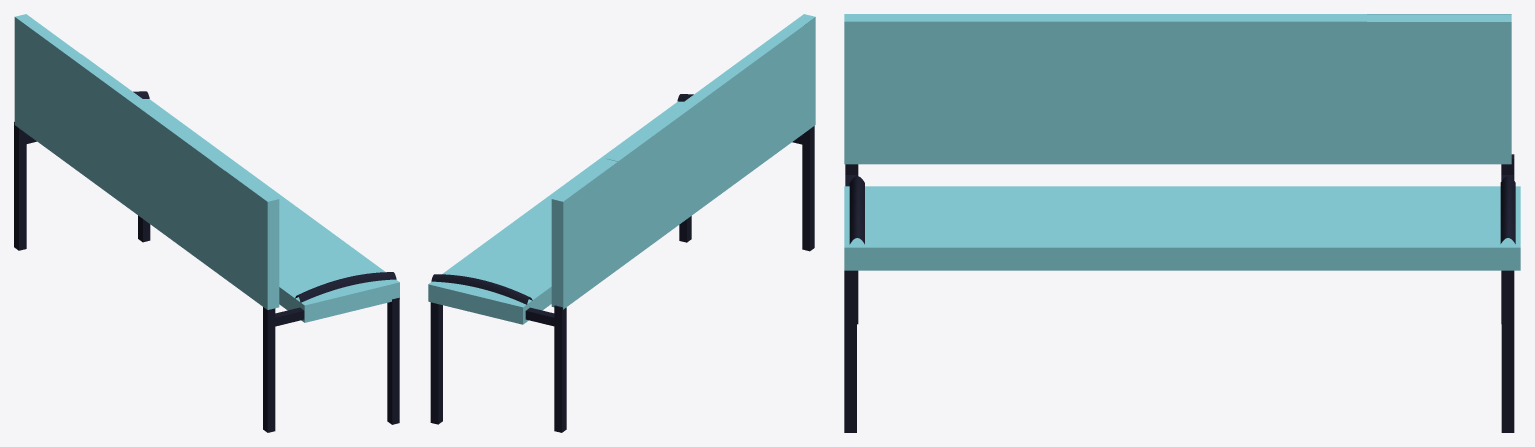
File: banco_grande.glb
3 renders of one model, left to right at view 1: azimuth 30°, elevation 25°; view 2: azimuth 150°, elevation 25°; view 3: azimuth 270°, elevation 25°, orthographic. The views are drawn at different scales.
Parts seen in each view (by area): view 1: Cube, SurfPatch.001; view 2: Cube, SurfPatch.001; view 3: Cube, SurfPatch.001.
Part boxes in pixels (x1=…): Cube: x1=14, y1=14, x2=399, y2=432; SurfPatch.001: x1=133, y1=91, x2=396, y2=302; Cube: x1=428, y1=14, x2=815, y2=432; SurfPatch.001: x1=431, y1=94, x2=693, y2=304; Cube: x1=844, y1=14, x2=1520, y2=432; SurfPatch.001: x1=849, y1=176, x2=1515, y2=244.
Bounding box in the file's own units: 2.78 × 5.09 × 9.34.
